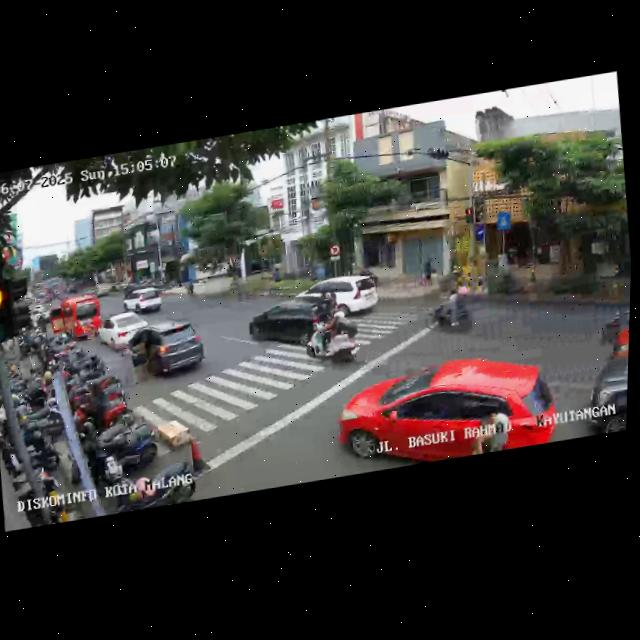car: (331, 342, 561, 476), (127, 316, 209, 387), (244, 292, 338, 352), (577, 333, 629, 436), (306, 268, 379, 324), (43, 293, 102, 347), (96, 308, 150, 353), (119, 283, 164, 318), (610, 322, 629, 358)
motorcycle: (301, 295, 367, 371), (427, 281, 478, 339)
